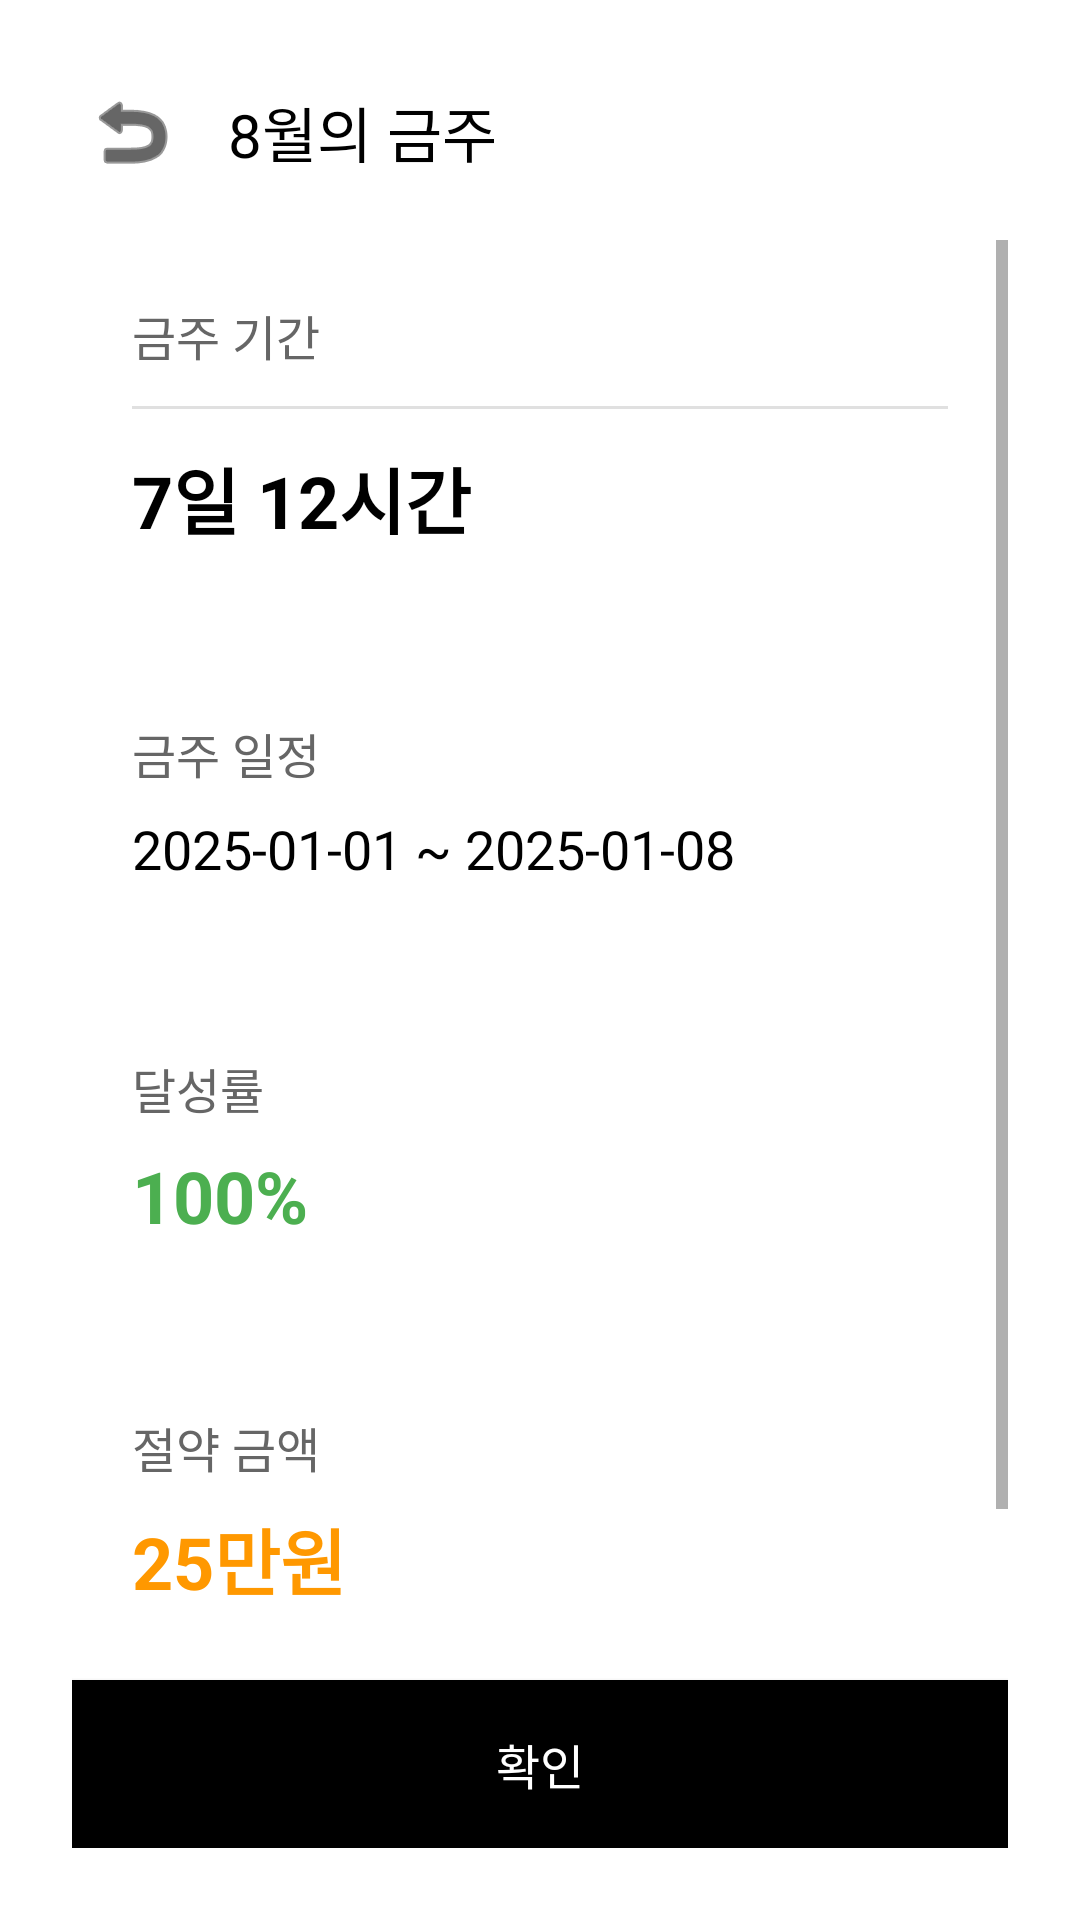

Locate icon controls on the screen. Image size 1080*1920, boxes as region(x1, y1, x2, y2).
뒤로가기: region(99, 101, 168, 164)
